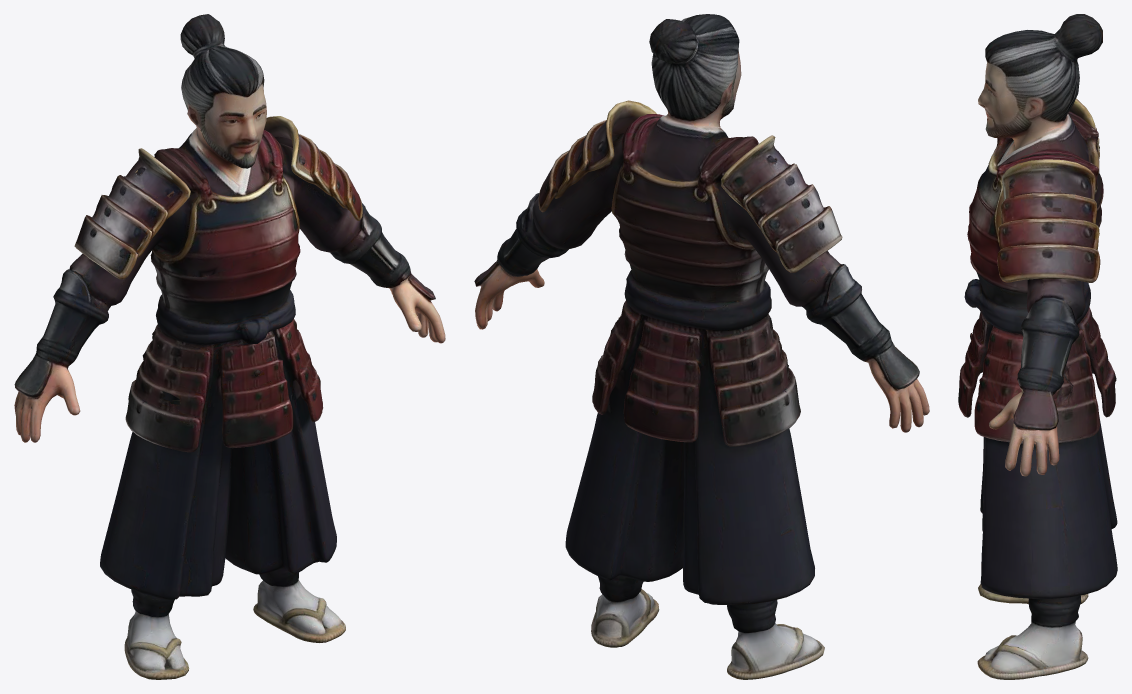
File: samurai.glb
3 renders of one model, left to right at view 1: azimuth 30°, elevation 25°; view 2: azimuth 150°, elevation 25°; view 3: azimuth 270°, elevation 25°, orthographic. The views are drawn at different scales.
Parts seen in each view (by area): view 1: tripo_node_dbeee726-7dba-427b-bb34-2f79568b2db8; view 2: tripo_node_dbeee726-7dba-427b-bb34-2f79568b2db8; view 3: tripo_node_dbeee726-7dba-427b-bb34-2f79568b2db8.
Boxes of the visible parts, left/top/right/bottom form: tripo_node_dbeee726-7dba-427b-bb34-2f79568b2db8: left=14, top=14, right=445, bottom=679; tripo_node_dbeee726-7dba-427b-bb34-2f79568b2db8: left=474, top=14, right=929, bottom=679; tripo_node_dbeee726-7dba-427b-bb34-2f79568b2db8: left=958, top=14, right=1117, bottom=679.
Bounding box in the file's own units: 0.7033 × 0.9773 × 0.2299.
1 material, 1 textured.
